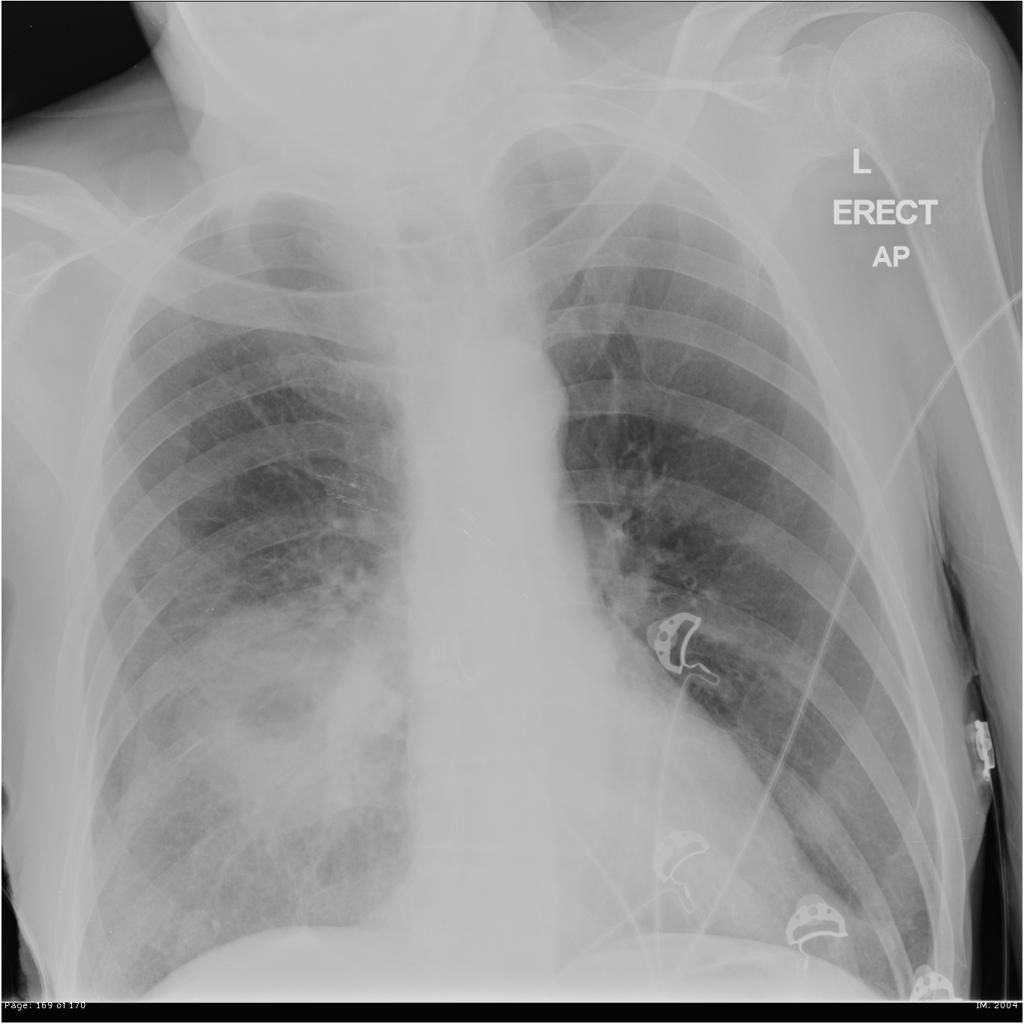cancer: (543, 126, 914, 826), (110, 212, 433, 920)
